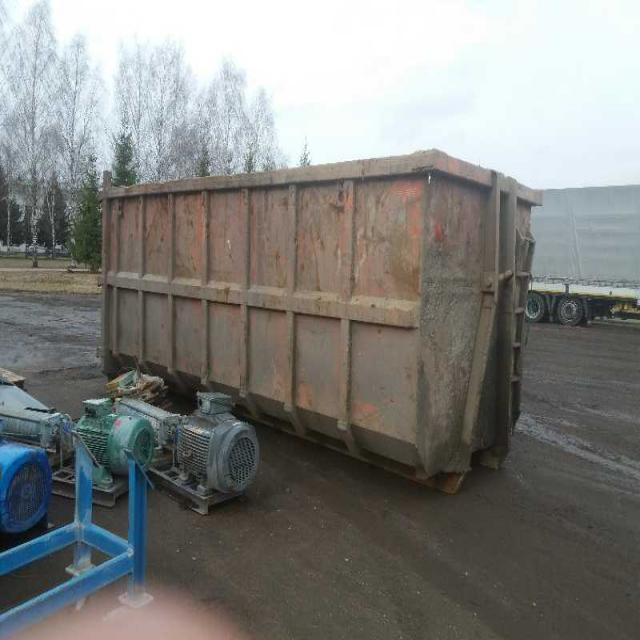Dumpster: (99, 147, 545, 485)
